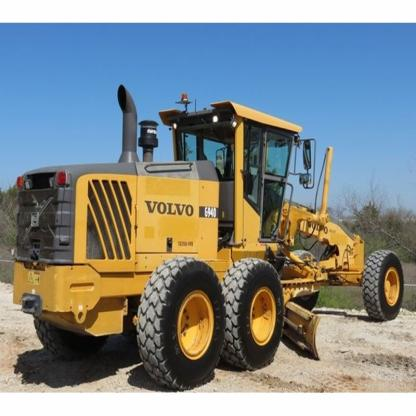bull_dozer/loader/grader: (17, 78, 416, 387)
